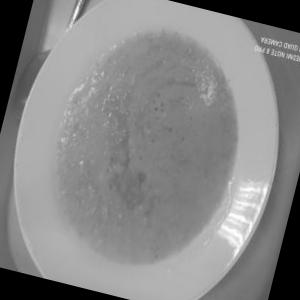porridge: (10, 0, 282, 292)
